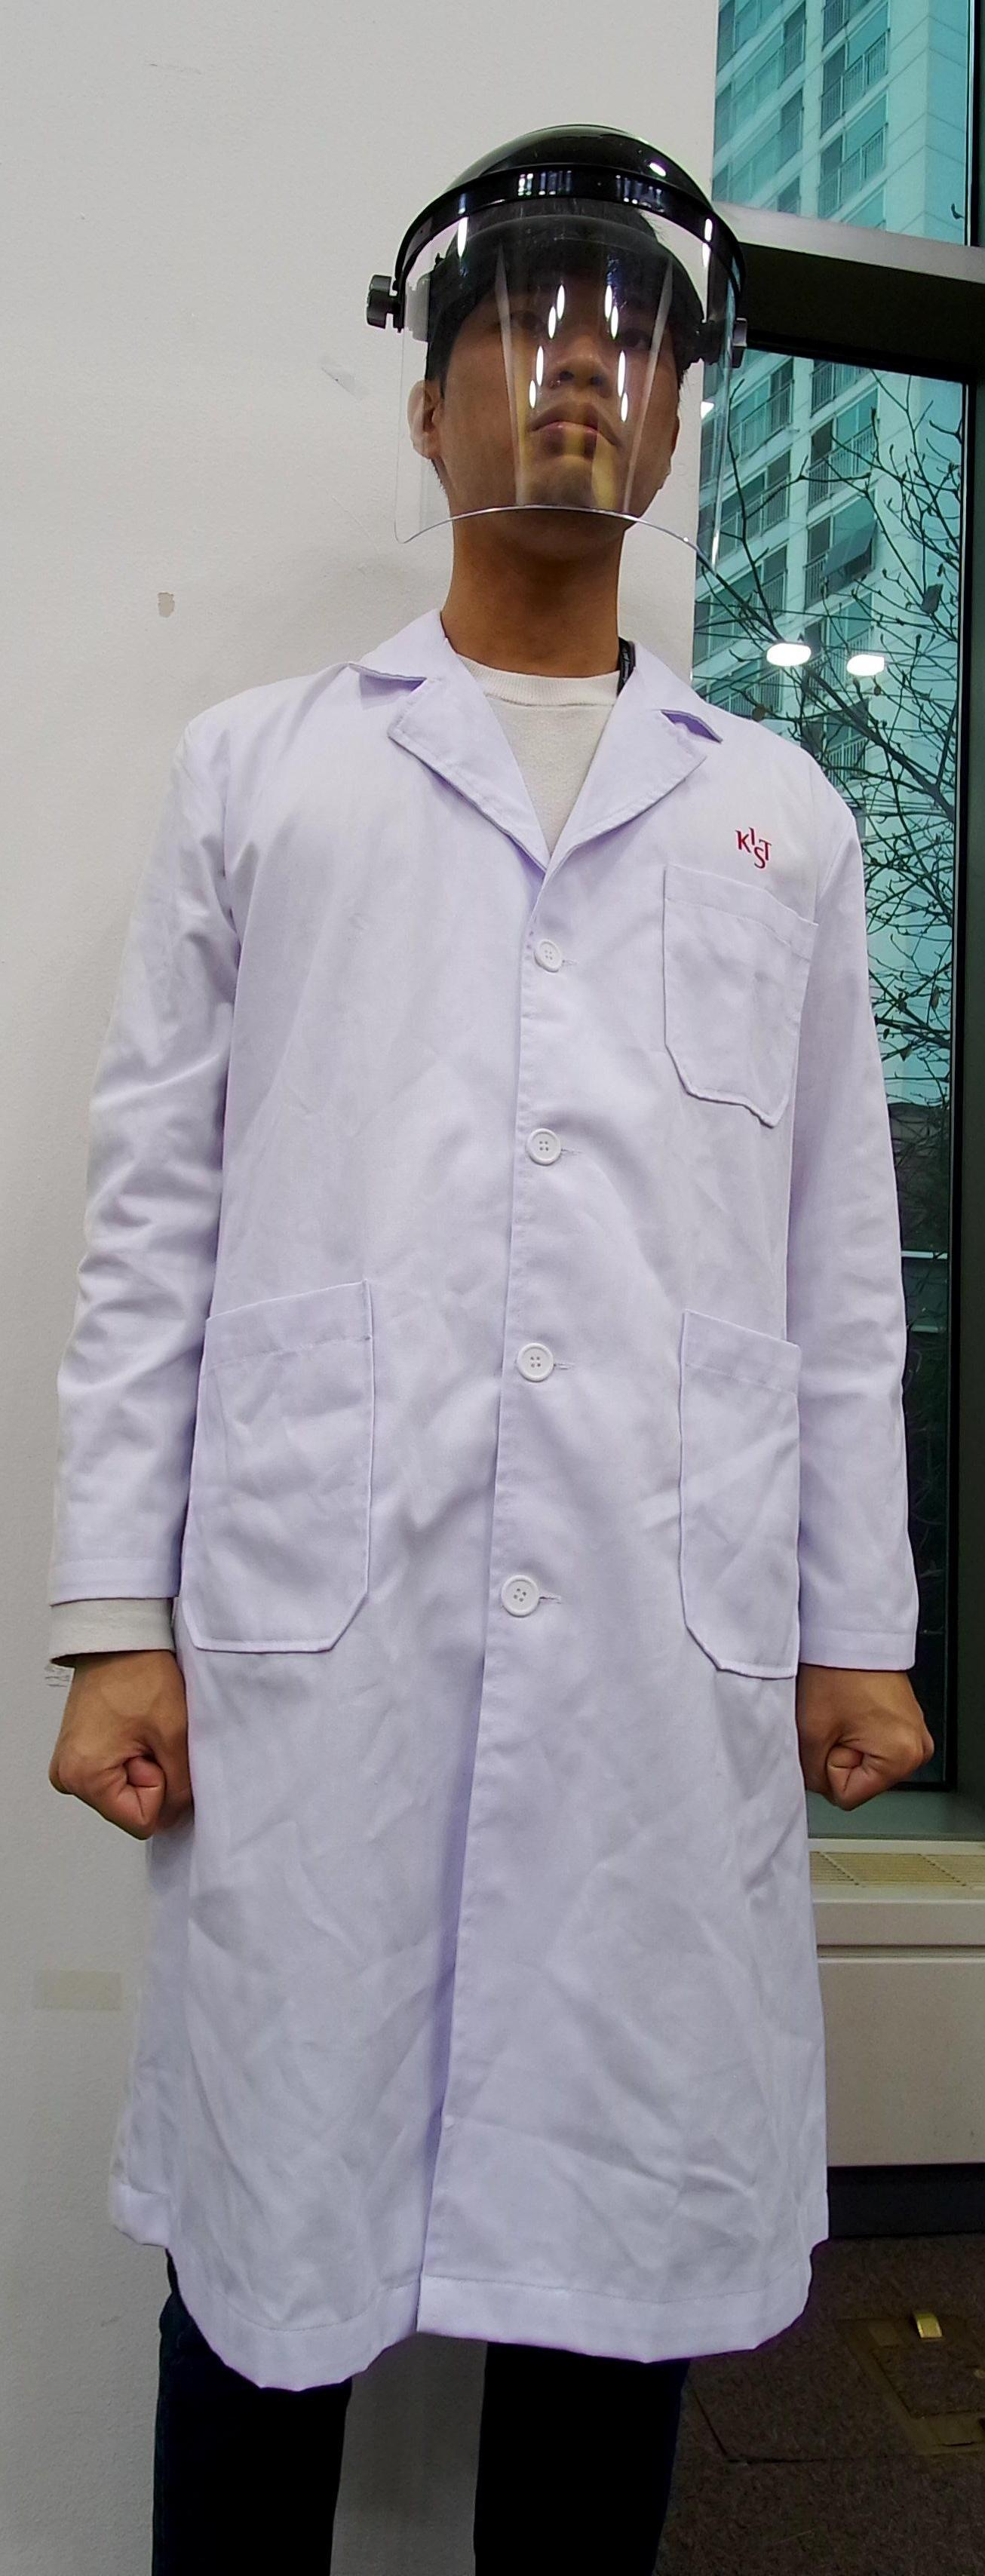lab_coat: (160, 747, 802, 2328)
